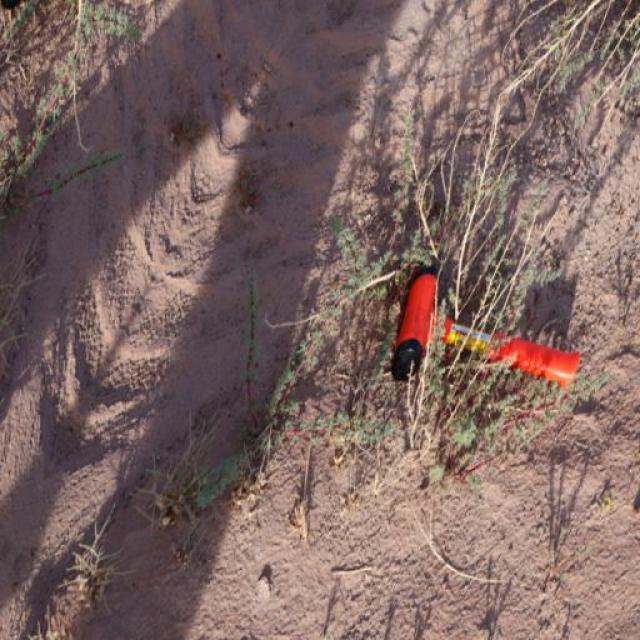mallet: (388, 264, 582, 388)
